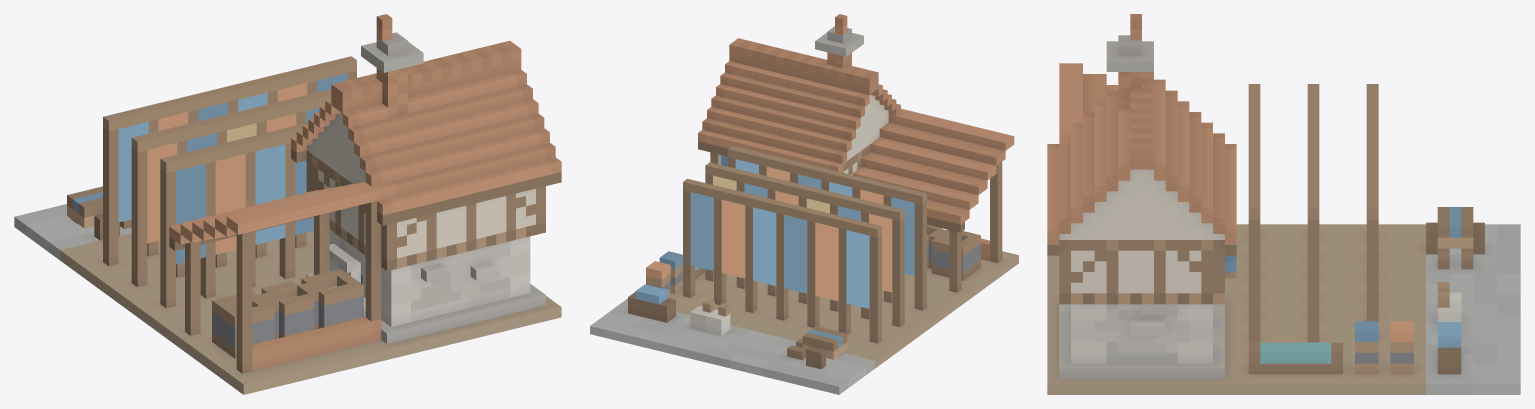
The model's file is dyer.glb.
3 renders of one model, left to right at view 1: azimuth 30°, elevation 25°; view 2: azimuth 150°, elevation 25°; view 3: azimuth 270°, elevation 25°, orthographic. The views are drawn at different scales.
Visible parts, largest first — view 1: dyer; view 2: dyer; view 3: dyer.
Part boxes in pixels (x1,y1,x2,y2): dyer: (14, 14, 561, 394); dyer: (590, 14, 1018, 394); dyer: (1047, 14, 1520, 394).
Bounding box in the file's own units: 4 × 3.62 × 5.
